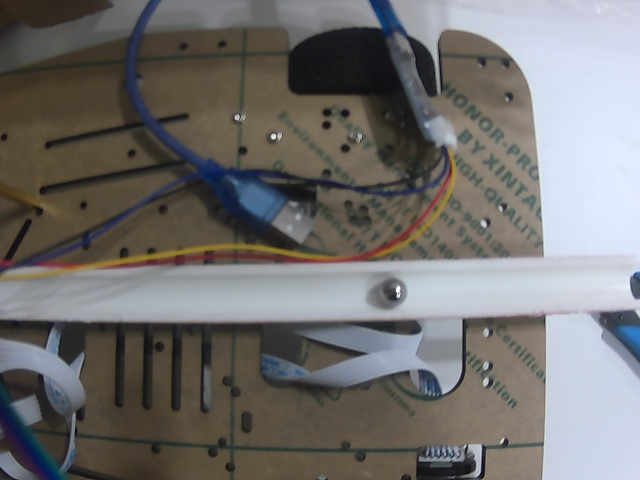steelball: (379, 278, 407, 305)
